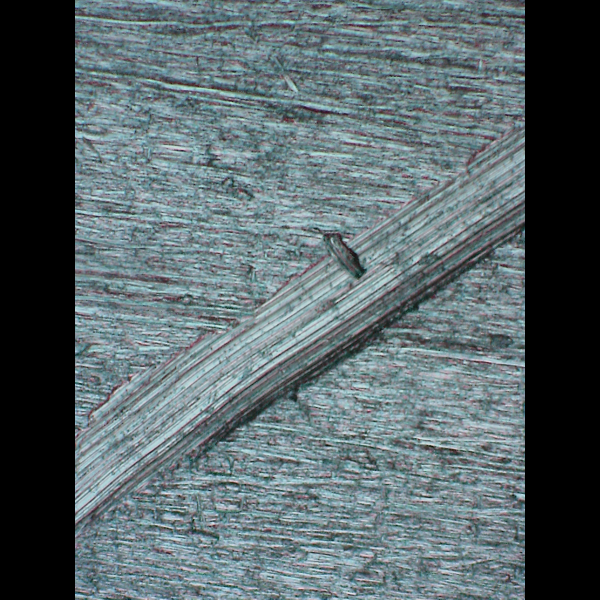d: (75, 113, 524, 546)
